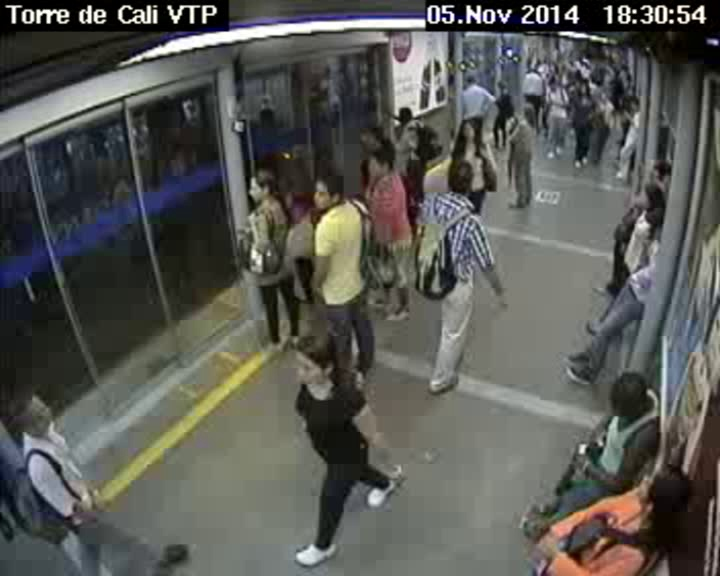person: (625, 454, 694, 533), (289, 327, 339, 386), (610, 368, 657, 429), (10, 387, 60, 436), (238, 168, 283, 211), (310, 167, 346, 218), (446, 158, 474, 193), (353, 124, 389, 150), (367, 145, 391, 182), (640, 206, 670, 235), (637, 180, 663, 210), (283, 192, 311, 219), (650, 157, 675, 183), (454, 119, 480, 143), (397, 100, 416, 128), (517, 100, 535, 122), (575, 83, 599, 99), (624, 95, 641, 112), (461, 74, 477, 89), (594, 90, 610, 104), (547, 79, 560, 92), (497, 78, 508, 93), (527, 66, 537, 75)
